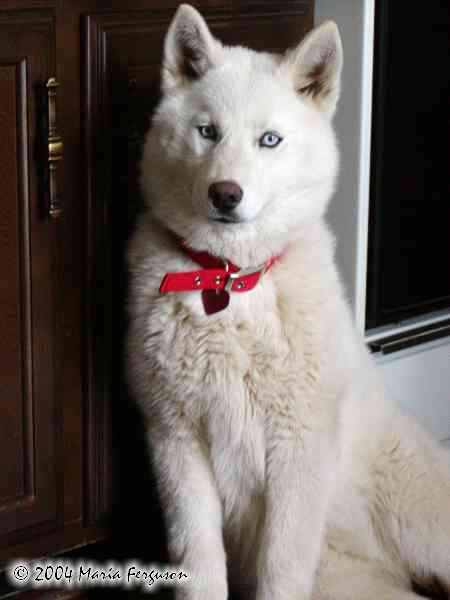dog: (127, 3, 448, 598)
